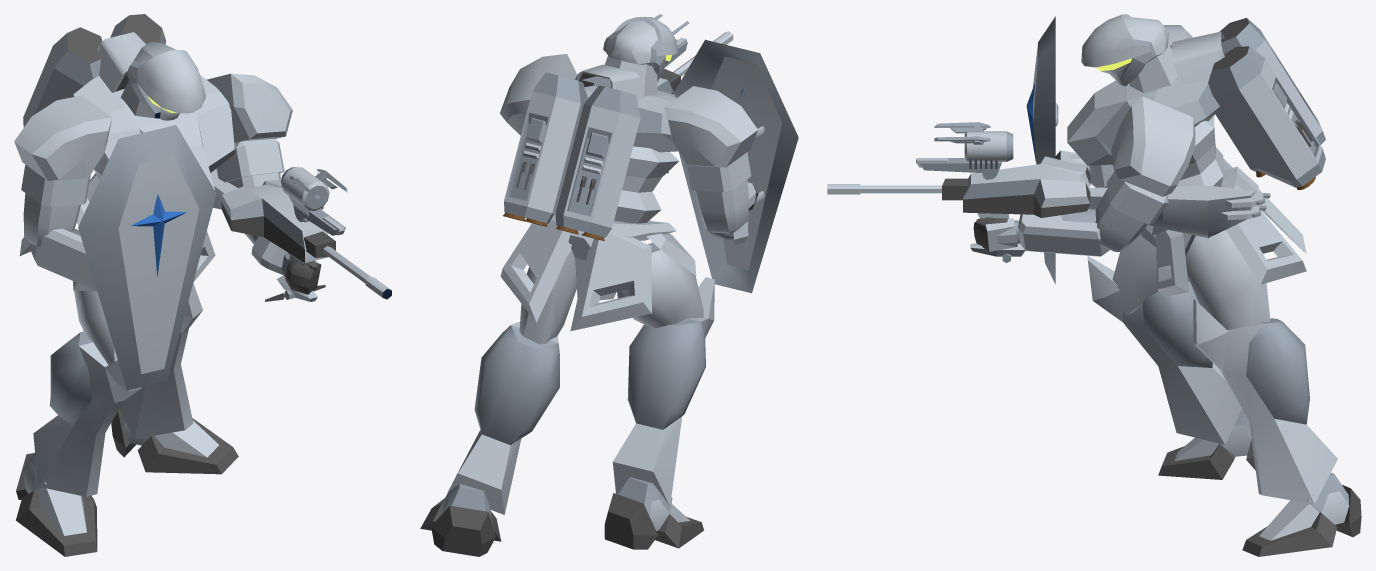
The model's file is robo1b_pose.fbx.
3 renders of one model, left to right at view 1: azimuth 30°, elevation 25°; view 2: azimuth 150°, elevation 25°; view 3: azimuth 270°, elevation 25°, orthographic. The views are drawn at different scales.
Parts seen in each view (by area): view 1: obj1, obj2, obj4, obj7; view 2: obj1, obj2, obj4; view 3: obj1, obj2, obj4.
Boxes of the visible parts, x1=… form: obj1: x1=14, y1=32, x2=390, y2=535; obj2: x1=23, y1=15, x2=347, y2=490; obj4: x1=16, y1=14, x2=335, y2=556; obj7: x1=131, y1=194, x2=186, y2=276; obj1: x1=441, y1=16, x2=782, y2=530; obj2: x1=442, y1=14, x2=798, y2=516; obj4: x1=420, y1=69, x2=758, y2=556; obj1: x1=827, y1=14, x2=1348, y2=540; obj2: x1=919, y1=16, x2=1349, y2=512; obj4: x1=942, y1=18, x2=1361, y2=556.
Size of the model in its own units: 18.56 by 33.22 by 33.16.
